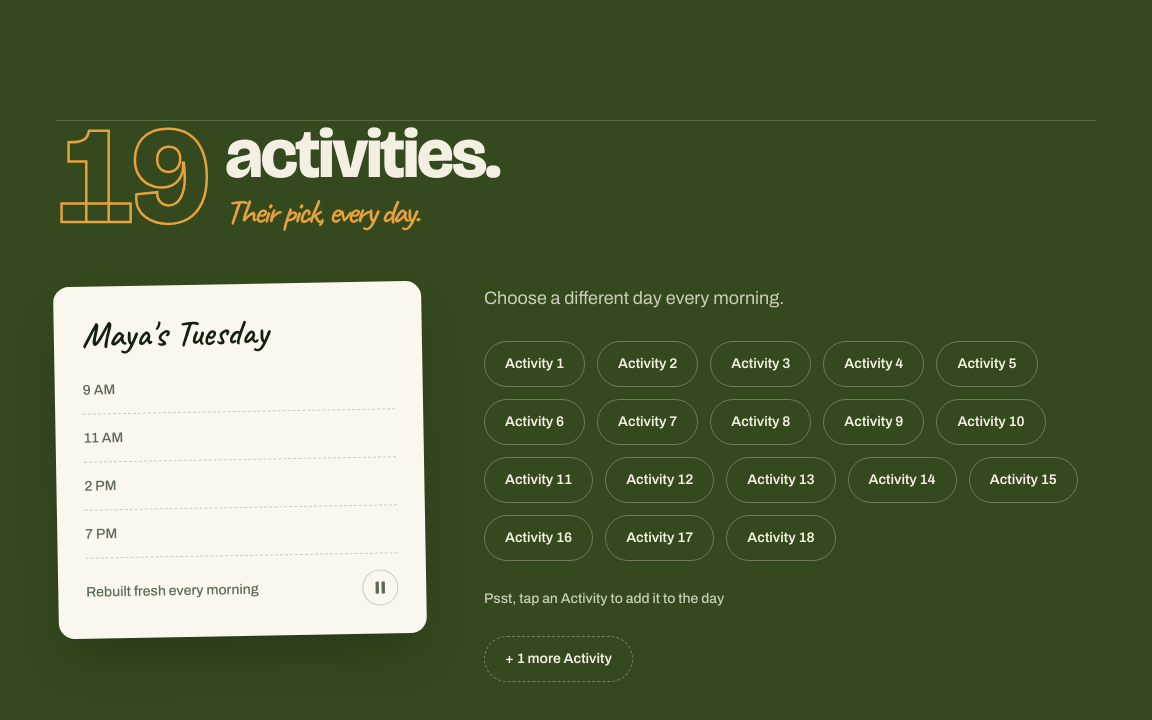
it: ActivitySchedule › resumes immediately after a manual selection made while paused
What coordinates should you click on to do the following:
click the button named "Pause automatic schedule"
I would click on:
 (380, 587)
Its box is x1=362 y1=569 x2=398 y2=605.
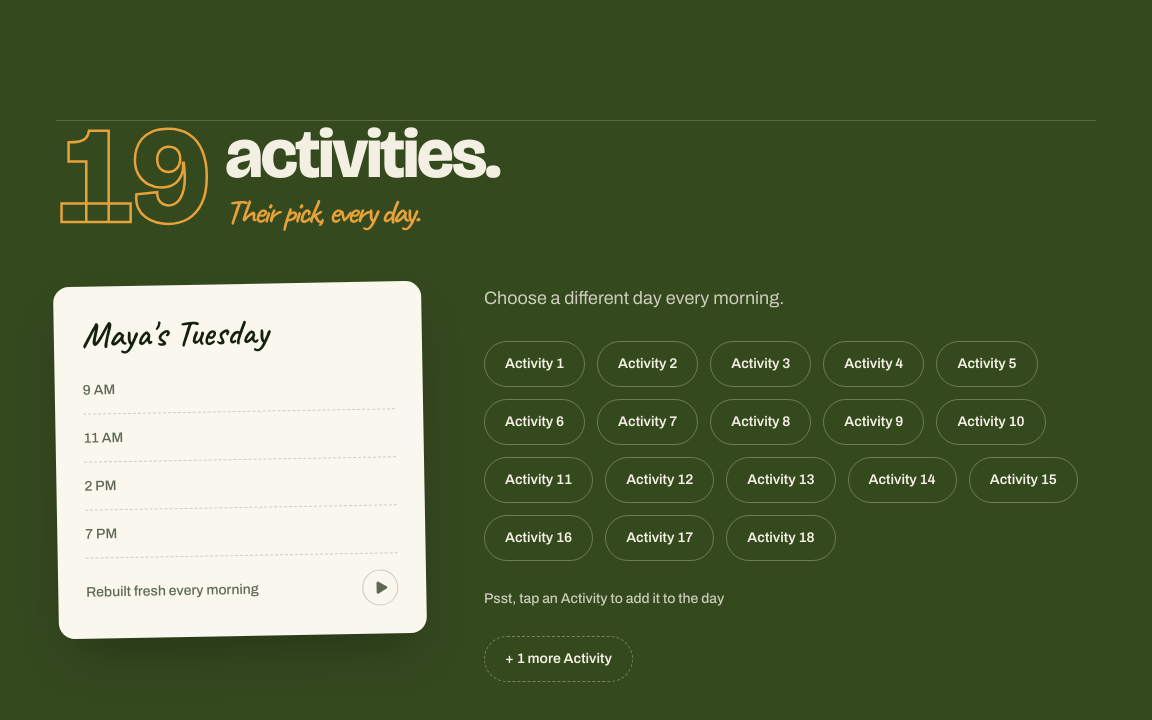
What coordinates should you click on to do the following:
click the button "Activity 1"
I would click on:
 (535, 364)
Its box is x1=484 y1=341 x2=585 y2=387.
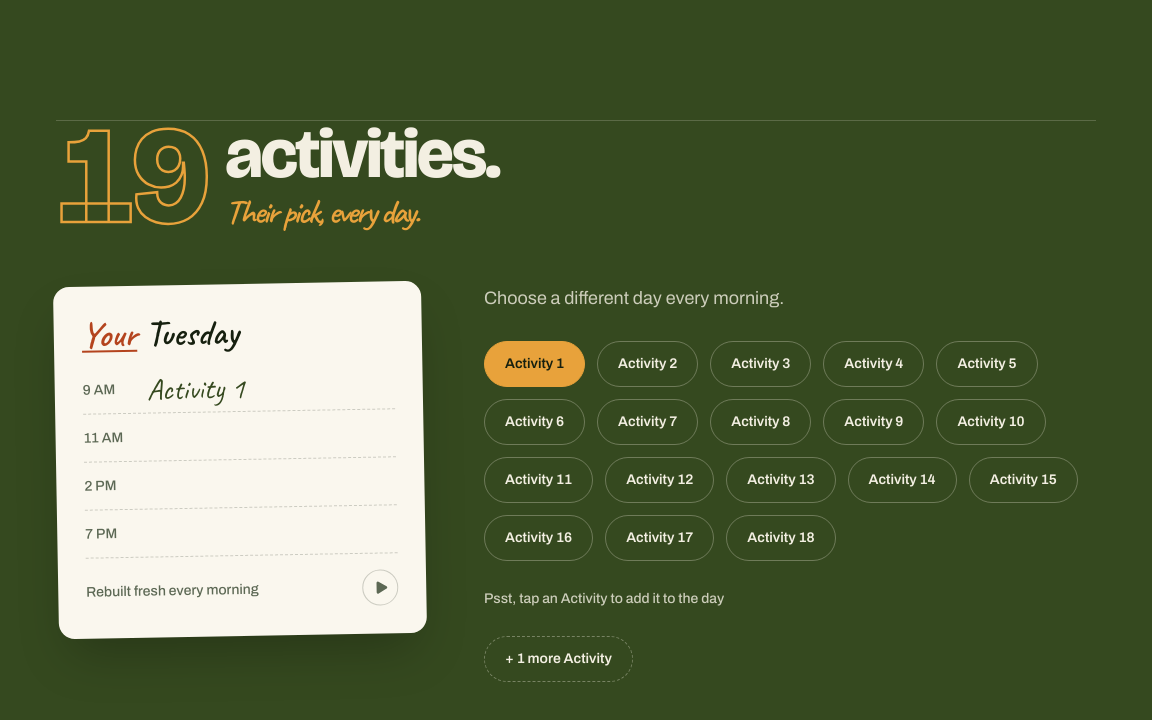
What coordinates should you click on to do the following:
click the button named "Resume automatic schedule"
I would click on:
 (380, 587)
Its box is x1=362 y1=569 x2=398 y2=605.
Wait 1000 ms
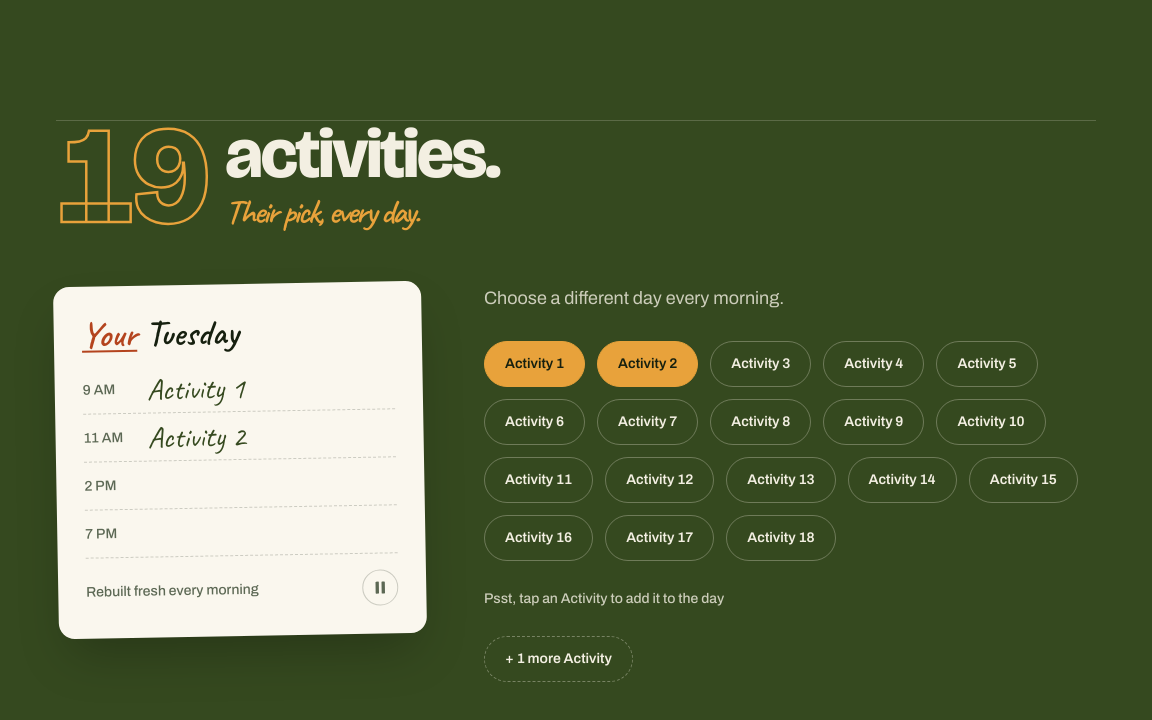
Expected: the list shows "Activity 2", x1=147 y1=416 x2=246 y2=456
